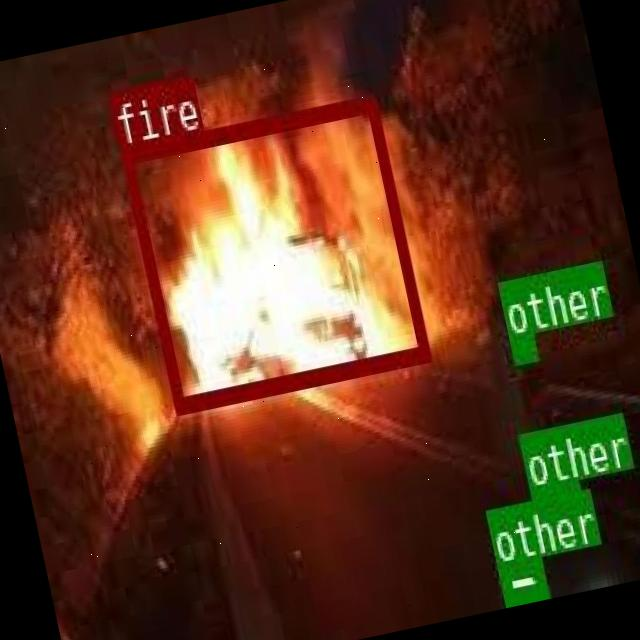fire: (119, 92, 428, 410)
